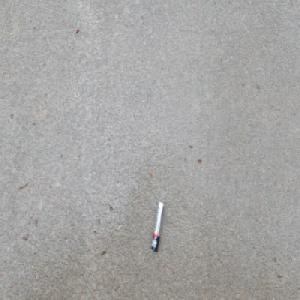Battery: (150, 198, 164, 253)
